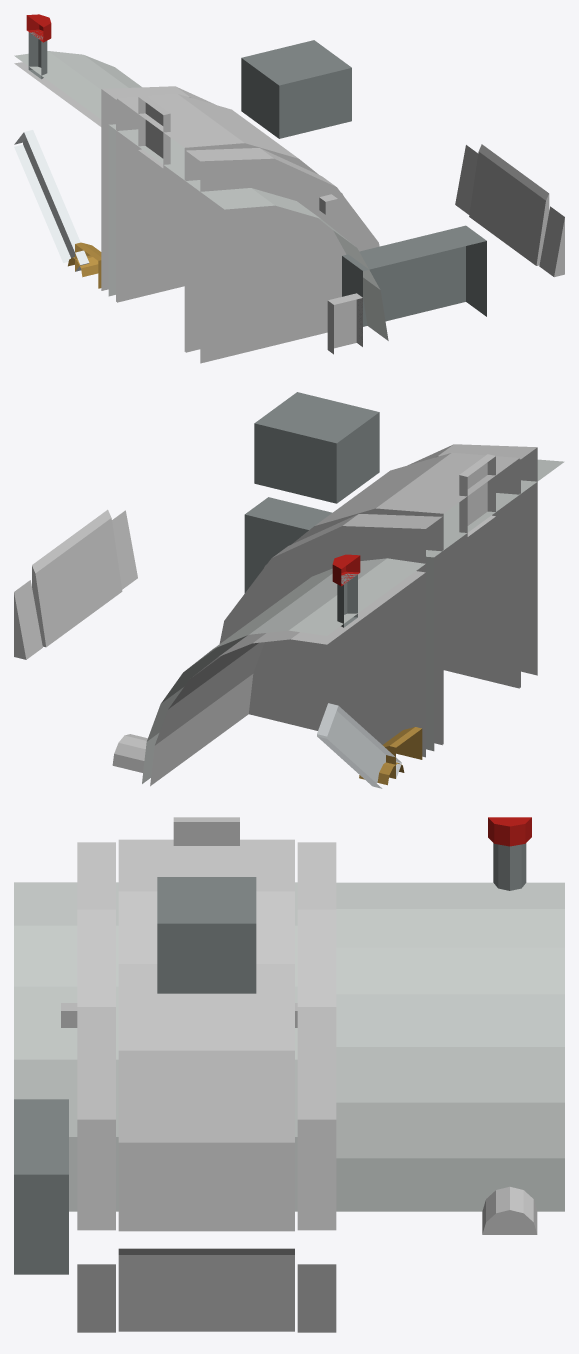
Rendered from cell_91.obj.
3 views of the same model, one above another, from view 1: azimuth 30°, elevation 25°; view 2: azimuth 150°, elevation 25°; view 3: azimuth 270°, elevation 25° (orthographic). The views are drawn at different scales.
Size of the model in its own units: 1 by 0.6 by 1.
